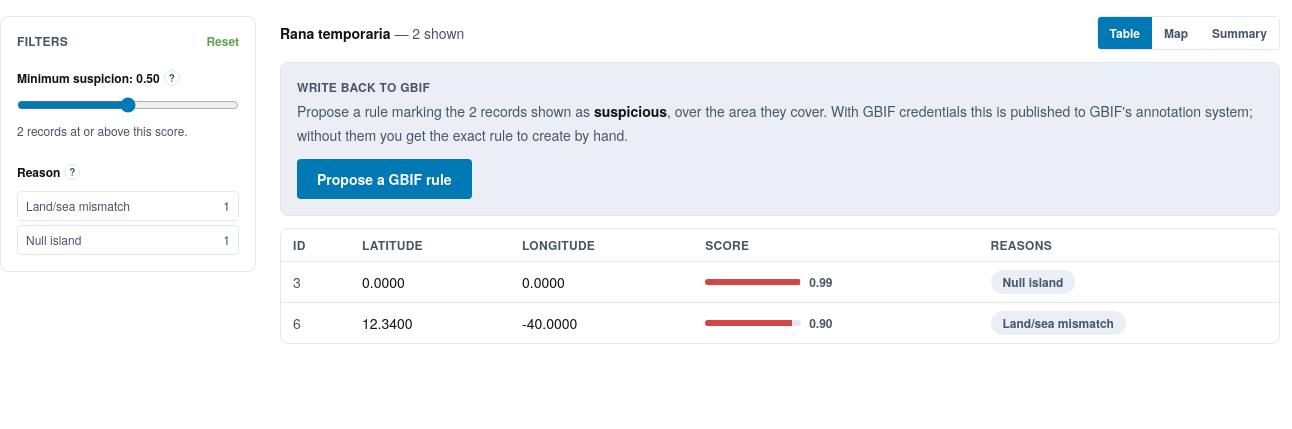
RecordsExplorer write-back › shows the manual fallback when GBIF credentials are absent
Step 1. Click the button "Propose a GBIF rule" → (384, 179), box [297,159,472,199]
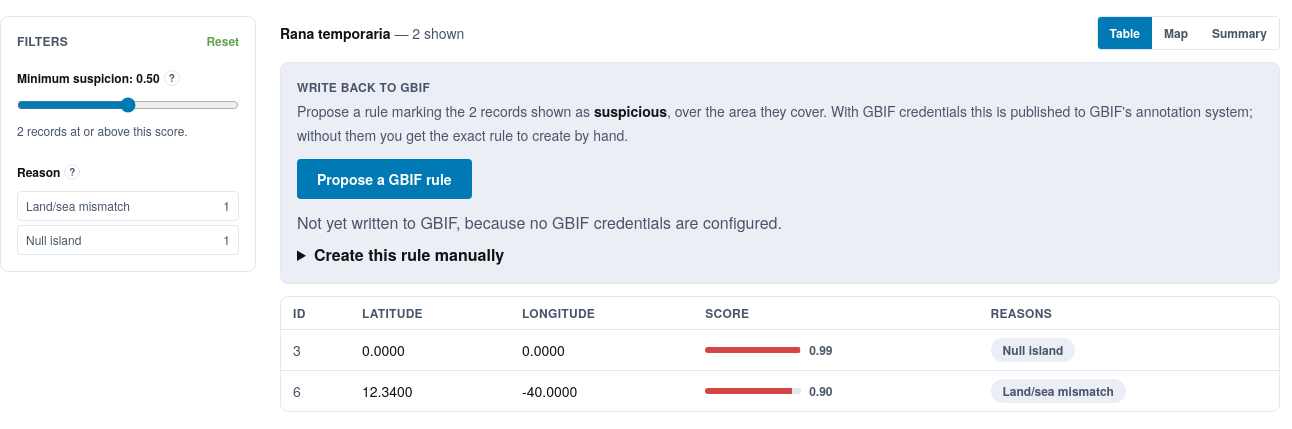
Check: the text "no GBIF credentials are configured" is shown, box [456,211,782,234]
